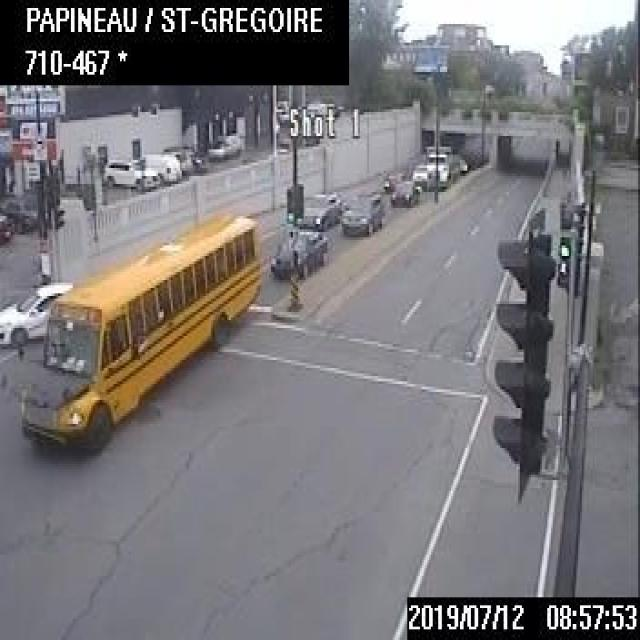bus: (16, 206, 262, 454)
vehicle: (0, 279, 71, 348), (269, 228, 328, 277), (339, 188, 382, 236), (103, 155, 159, 190), (424, 144, 460, 189), (300, 190, 342, 226), (135, 152, 179, 183), (206, 130, 244, 160), (160, 142, 197, 172), (388, 178, 418, 205), (382, 168, 408, 191), (0, 208, 16, 242), (409, 161, 429, 186)
